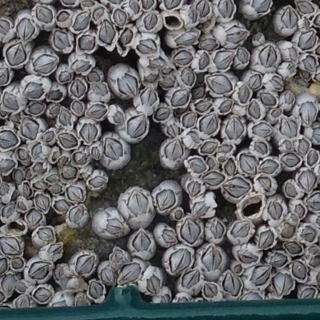Barnacle: (55, 200, 85, 223), (127, 188, 149, 219), (125, 114, 148, 139), (205, 75, 232, 96), (169, 251, 193, 274), (223, 178, 250, 198), (182, 219, 202, 246), (272, 273, 294, 297), (118, 72, 138, 98), (103, 137, 123, 162), (203, 246, 222, 272), (119, 264, 141, 286), (6, 43, 27, 66), (223, 25, 248, 44), (260, 43, 279, 68), (32, 55, 57, 74), (0, 93, 19, 118), (155, 190, 177, 211), (163, 139, 183, 162), (58, 157, 78, 180), (251, 265, 271, 288), (223, 272, 241, 297), (297, 171, 317, 193), (21, 118, 40, 141), (30, 262, 51, 282), (281, 7, 299, 30), (300, 101, 317, 125), (213, 51, 234, 70), (226, 118, 244, 140), (18, 19, 35, 42), (201, 112, 217, 136), (298, 31, 317, 51), (0, 129, 19, 149), (80, 124, 98, 145), (230, 221, 251, 239), (0, 237, 21, 255), (133, 231, 150, 253), (140, 86, 156, 109), (252, 122, 273, 139), (240, 155, 257, 176), (100, 21, 115, 44), (177, 31, 198, 47), (23, 83, 44, 99), (87, 103, 108, 119), (282, 118, 298, 139), (104, 218, 125, 234), (1, 275, 16, 297), (112, 8, 130, 26), (183, 271, 201, 289), (36, 6, 53, 25), (54, 31, 71, 50), (281, 153, 301, 169), (292, 260, 308, 280), (238, 250, 259, 265), (203, 172, 225, 186), (189, 158, 206, 176), (220, 0, 236, 19), (74, 11, 90, 30), (70, 79, 86, 98), (59, 133, 78, 149), (77, 255, 93, 274), (296, 0, 316, 15), (269, 202, 284, 222), (33, 288, 53, 303), (193, 201, 210, 218), (300, 225, 317, 242), (259, 231, 275, 249), (138, 39, 157, 54), (174, 51, 193, 66), (260, 160, 279, 175), (252, 0, 272, 14), (148, 56, 168, 70), (120, 28, 133, 49), (212, 219, 225, 240), (79, 35, 96, 51), (173, 91, 190, 107), (68, 186, 85, 202), (270, 252, 288, 267), (198, 0, 212, 19), (147, 275, 160, 295), (181, 113, 196, 130), (92, 84, 110, 98), (195, 100, 213, 114), (145, 13, 158, 32), (297, 137, 310, 156), (37, 228, 56, 241), (238, 85, 250, 105), (249, 100, 261, 120), (187, 180, 202, 196), (16, 296, 31, 312), (261, 93, 278, 107), (110, 248, 124, 265), (300, 288, 317, 302), (90, 283, 103, 301), (71, 61, 92, 72), (59, 108, 71, 127), (248, 74, 262, 90), (28, 209, 42, 225), (182, 69, 195, 86), (198, 53, 210, 71), (73, 152, 88, 166), (163, 230, 177, 245), (304, 56, 317, 72), (286, 242, 302, 255), (102, 268, 115, 284), (204, 284, 217, 300), (307, 150, 319, 167), (307, 194, 319, 211), (36, 195, 50, 209), (282, 225, 296, 239), (191, 86, 204, 101), (155, 108, 170, 121), (254, 142, 267, 157), (259, 176, 272, 191), (2, 203, 15, 218), (145, 72, 161, 84), (237, 47, 248, 64), (89, 177, 106, 188), (168, 123, 181, 137), (285, 184, 298, 198), (76, 295, 90, 308), (93, 7, 105, 22), (219, 100, 234, 112), (41, 131, 56, 143), (0, 160, 15, 172), (201, 40, 217, 51), (217, 144, 233, 155), (225, 159, 236, 175), (0, 18, 10, 35), (28, 104, 45, 114), (200, 143, 217, 153), (0, 182, 10, 199), (51, 299, 68, 309), (270, 77, 283, 90), (48, 245, 63, 256), (0, 68, 9, 86), (188, 9, 198, 25), (23, 181, 33, 197), (71, 101, 83, 114), (113, 111, 125, 124), (188, 131, 200, 144), (56, 12, 70, 23), (49, 90, 63, 101), (32, 144, 41, 160), (0, 258, 8, 276), (130, 0, 140, 14), (285, 91, 294, 106), (33, 181, 48, 190), (143, 0, 154, 12), (12, 258, 23, 270), (59, 72, 72, 82), (162, 79, 175, 89), (47, 174, 60, 184), (18, 149, 29, 160), (297, 76, 307, 88), (14, 170, 24, 182), (288, 48, 297, 61), (87, 72, 100, 81), (296, 205, 305, 218), (175, 210, 185, 221), (17, 283, 28, 293), (34, 165, 46, 174), (310, 255, 319, 267), (82, 1, 95, 9), (49, 186, 62, 194), (55, 267, 63, 280), (179, 296, 192, 304), (161, 294, 171, 304), (164, 67, 175, 76), (50, 107, 61, 116), (308, 246, 319, 255), (302, 18, 310, 30), (92, 147, 100, 159), (208, 158, 216, 170), (272, 109, 282, 118), (282, 140, 292, 149), (11, 190, 18, 202), (290, 215, 299, 224), (287, 64, 295, 74), (17, 202, 27, 210)
